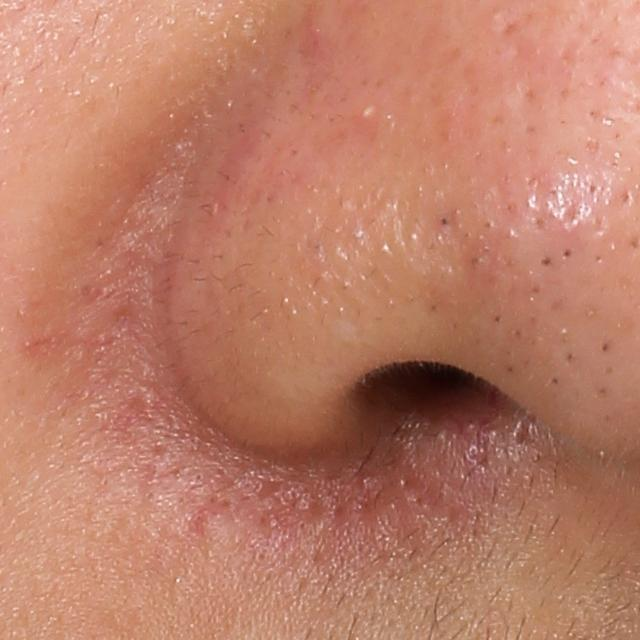comedo: (559, 243, 575, 262)
pustule: (355, 100, 378, 123)
